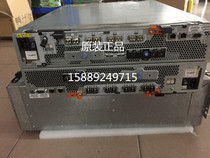ibm-server: (8, 27, 208, 64)
